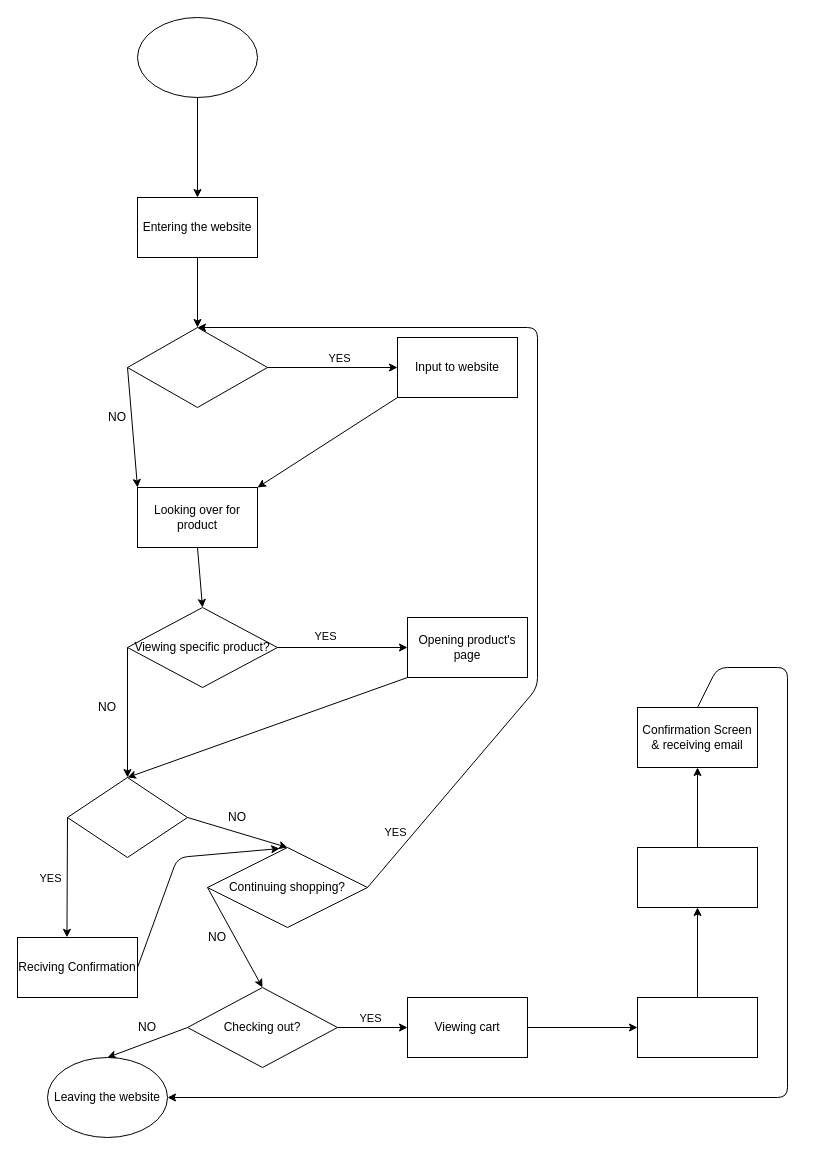
Image size: 813x1155. Some labels were removed from this diagram. The centre of each missing label's shape, as x and y in pixels:
Adding to cart?: the point at 127,817
Searching for product?: the point at 197,367
Start: the point at 197,57
Viewing payment methods: the point at 697,877
Viewing payment screen: the point at 697,1027
